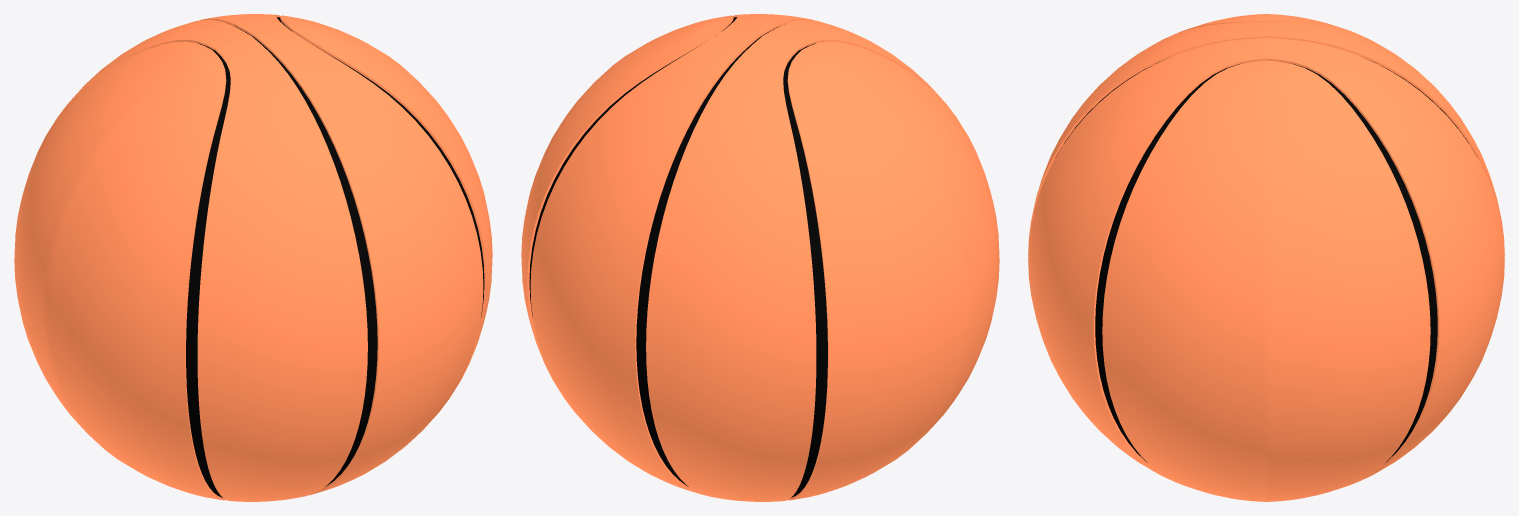
File: Basket Ball.fbx
The picture shows the model from 3 angles, left to right: view 1: azimuth 30°, elevation 25°; view 2: azimuth 150°, elevation 25°; view 3: azimuth 270°, elevation 25°; orthographic projection.
Parts seen in each view (by area): view 1: pSphere1; view 2: pSphere1; view 3: pSphere1.
Part boxes in pixels (x1,y1,x2,y2): pSphere1: (14, 14, 492, 501); pSphere1: (521, 14, 999, 501); pSphere1: (1028, 14, 1504, 501).
Size of the model in its own units: 32.77 by 33.43 by 32.69.
